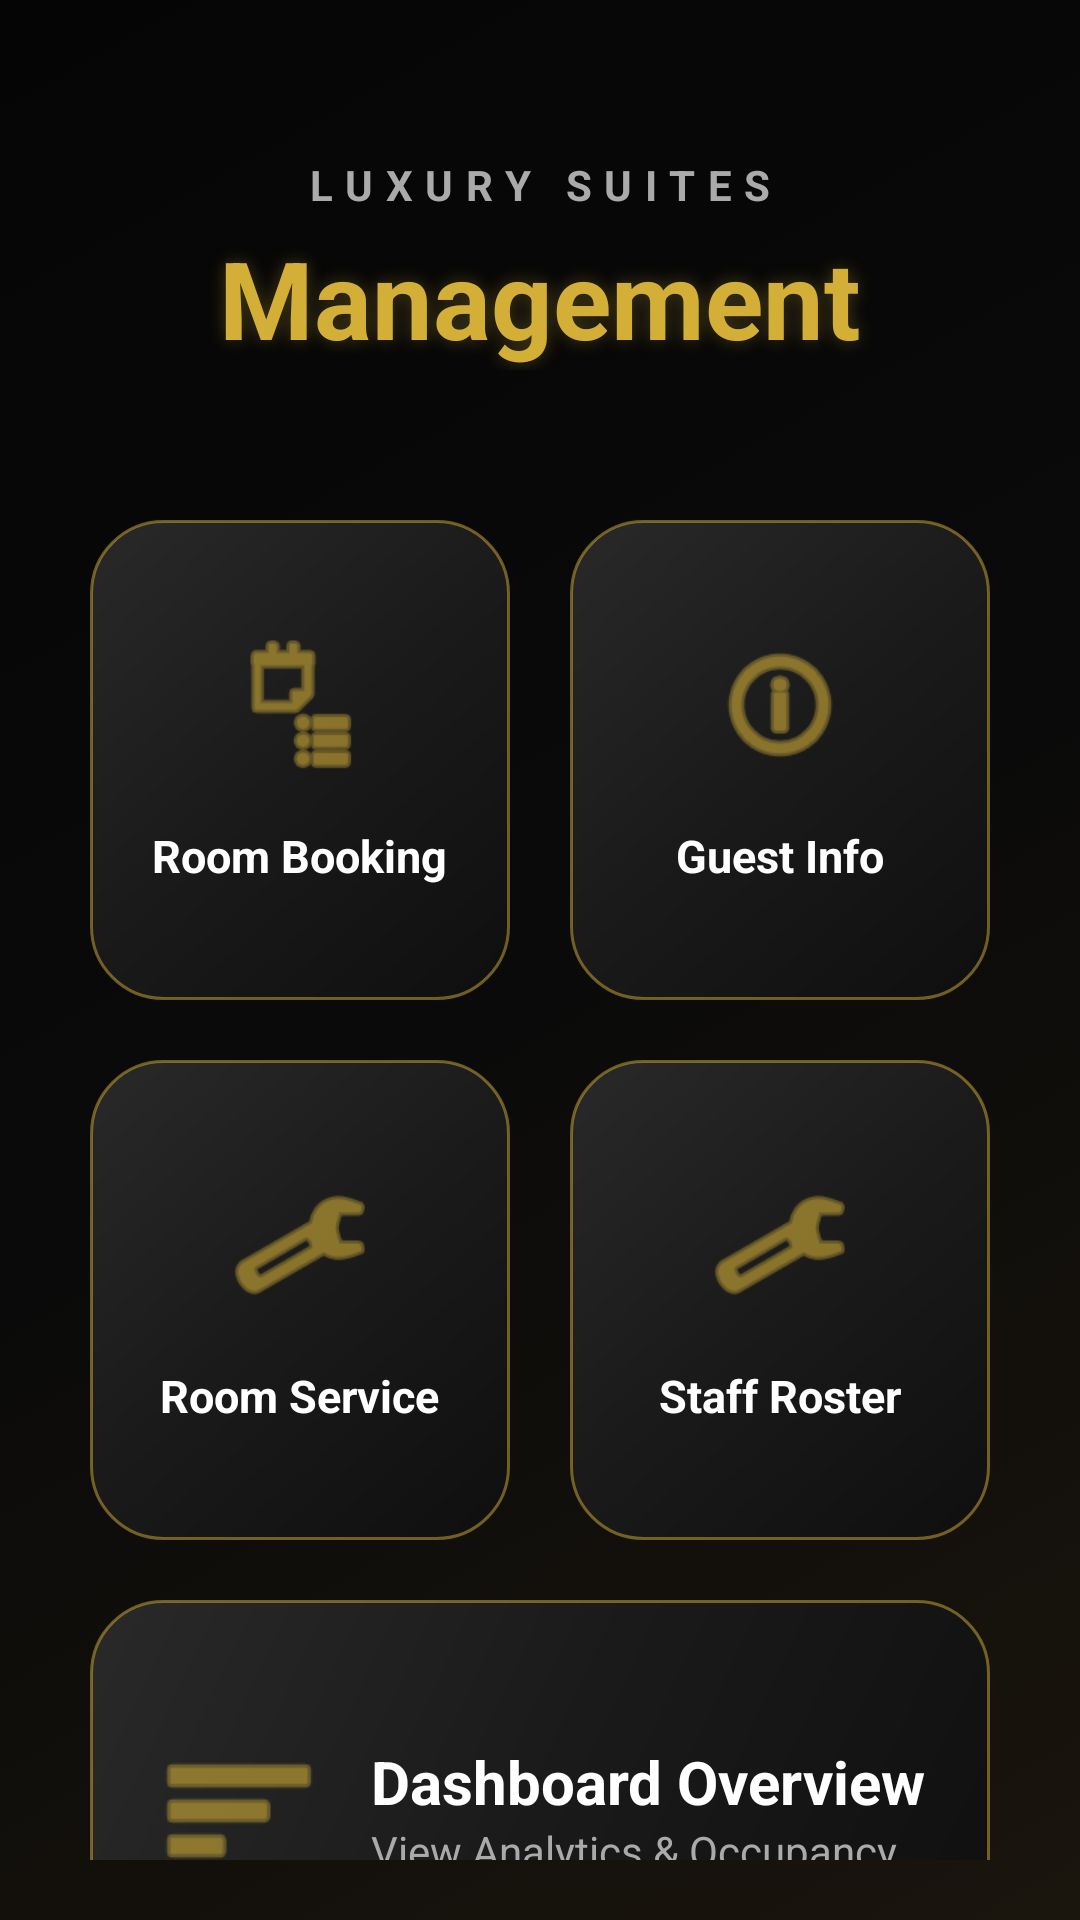

Icons on this 1080 × 1920 Android screen, each with its box as {"left": x1, "top": y1, "right": x2, "bottom": y2}:
agenda: {"left": 250, "top": 640, "right": 351, "bottom": 768}
info details: {"left": 728, "top": 653, "right": 832, "bottom": 757}
